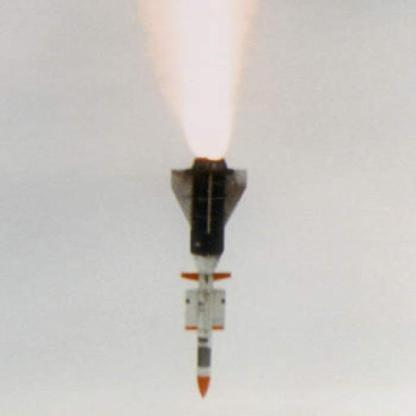MIL_TBM: (171, 127, 248, 403), (195, 268, 216, 405)
